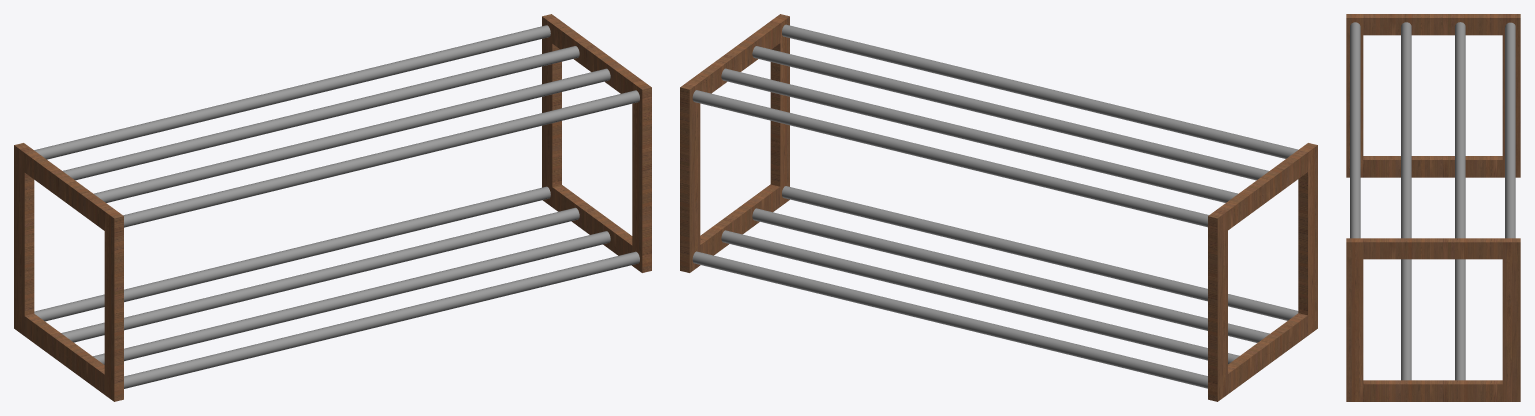
The model's file is Shoe holder.FBX.
The picture shows the model from 3 angles, left to right: view 1: azimuth 30°, elevation 25°; view 2: azimuth 150°, elevation 25°; view 3: azimuth 270°, elevation 25°; orthographic projection. The views are drawn at different scales.
Parts seen in each view (by area): view 1: shoe holder; view 2: shoe holder; view 3: shoe holder.
Boxes of the visible parts, box(x1,y1,x2,y2) form: shoe holder: box(14, 14, 651, 401); shoe holder: box(680, 14, 1317, 401); shoe holder: box(1346, 14, 1520, 401).
Size of the model in its own units: 107 by 34.93 by 34.59.
Materials: 2 (1 with a texture image).
